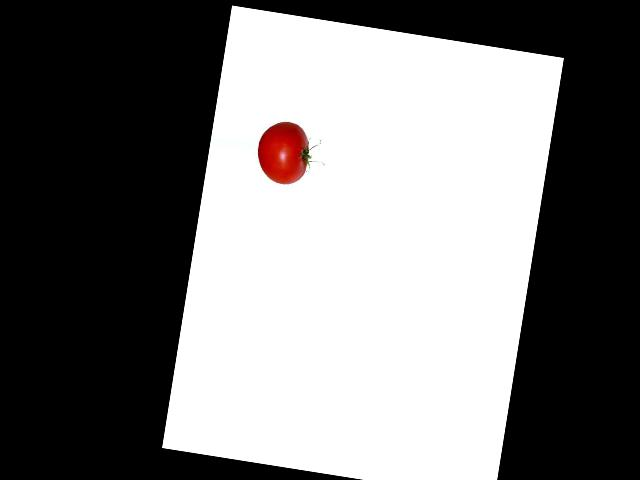tomato: (252, 118, 313, 188)
